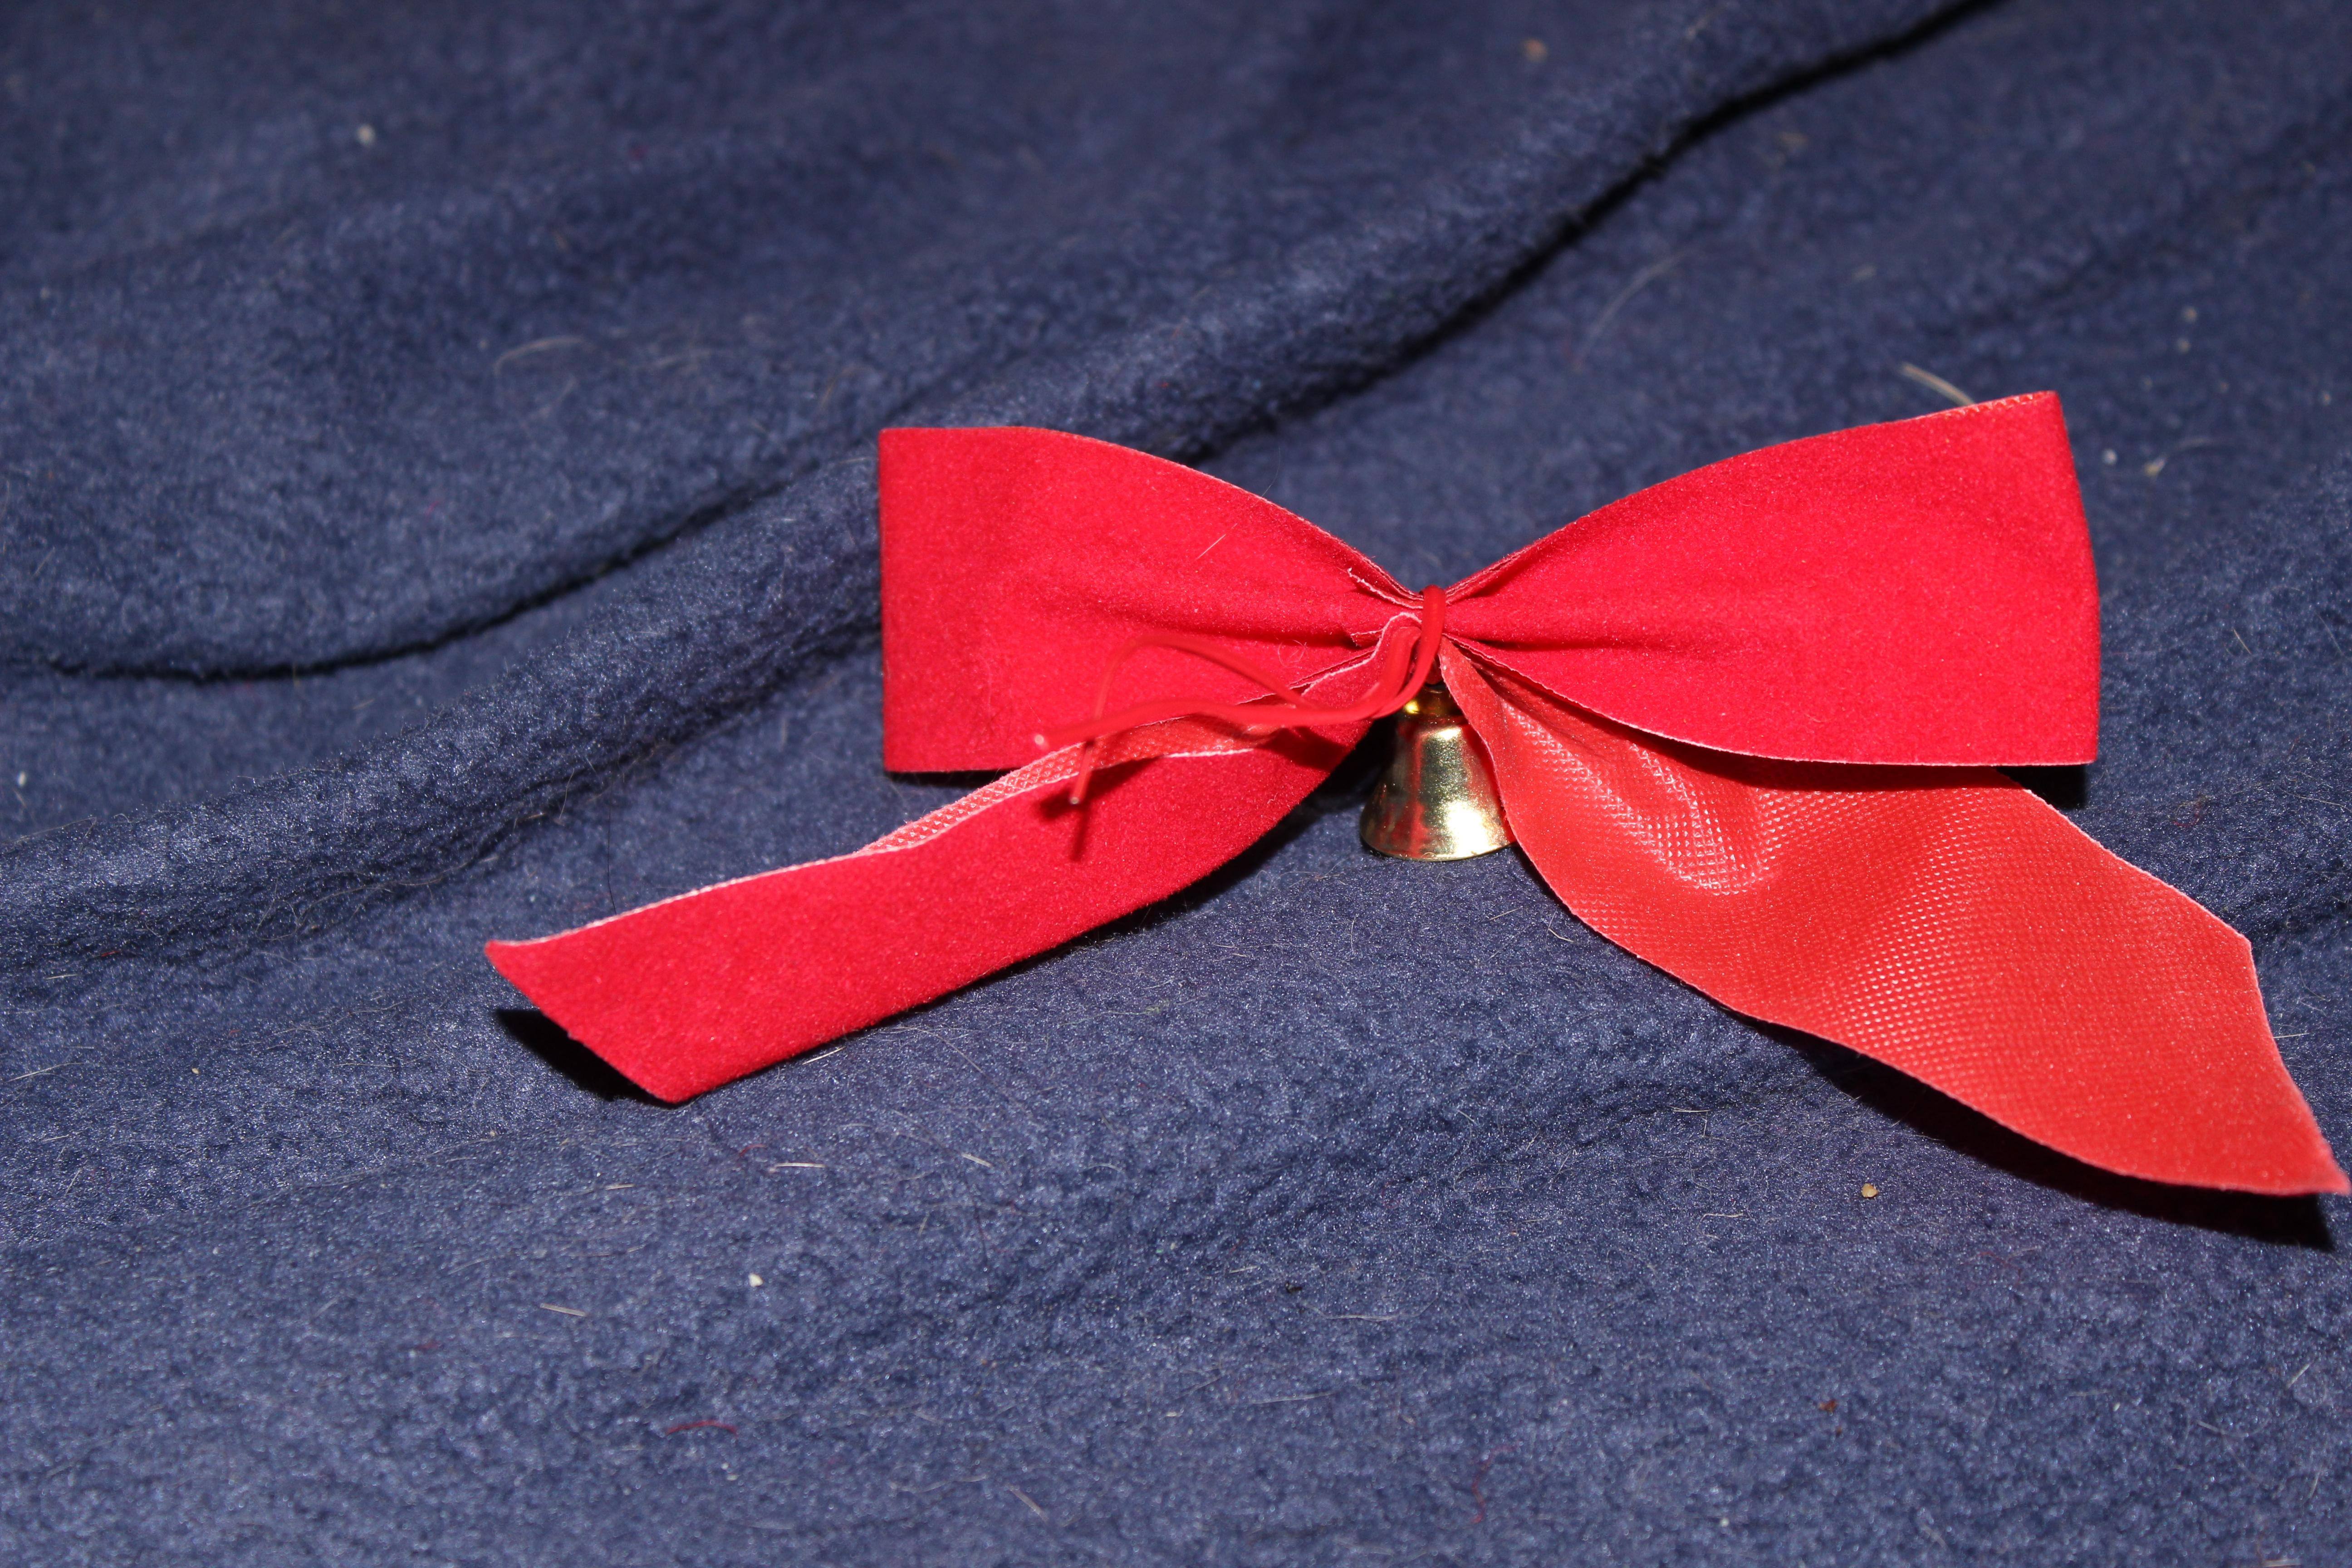redBow: (436, 360, 2349, 1264)
